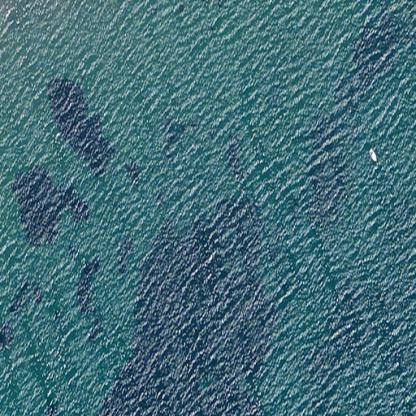ship: (367, 147, 379, 163)
